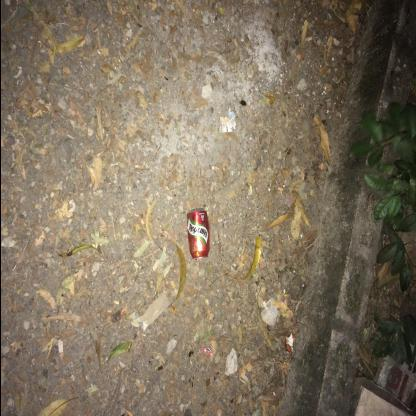metal: (187, 209, 210, 261)
